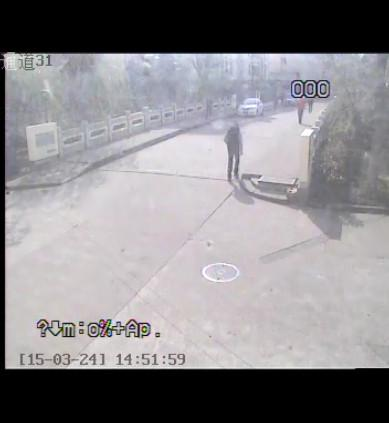person: (224, 121, 243, 182), (204, 95, 218, 125), (294, 96, 306, 127), (307, 98, 316, 114)
